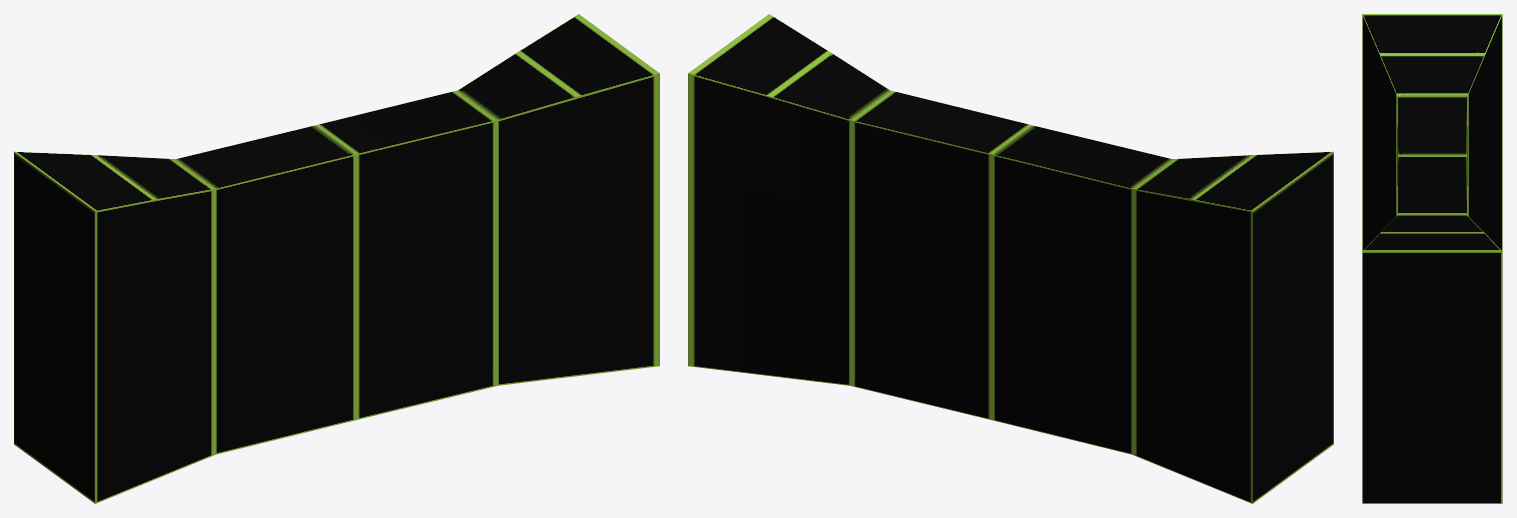
File: Ghost_Gate.fbx
3 views of the same model, side by side, from view 1: azimuth 30°, elevation 25°; view 2: azimuth 150°, elevation 25°; view 3: azimuth 270°, elevation 25° (orthographic). The views are drawn at different scales.
Parts seen in each view (by area): view 1: pCube1; view 2: pCube1; view 3: pCube1.
Part boxes in pixels (<box>): pCube1: <box>14,14,659,503</box>; pCube1: <box>688,14,1333,503</box>; pCube1: <box>1362,14,1502,503</box>.
Bounding box in the file's own units: 99.88 × 49.49 × 24.88.
